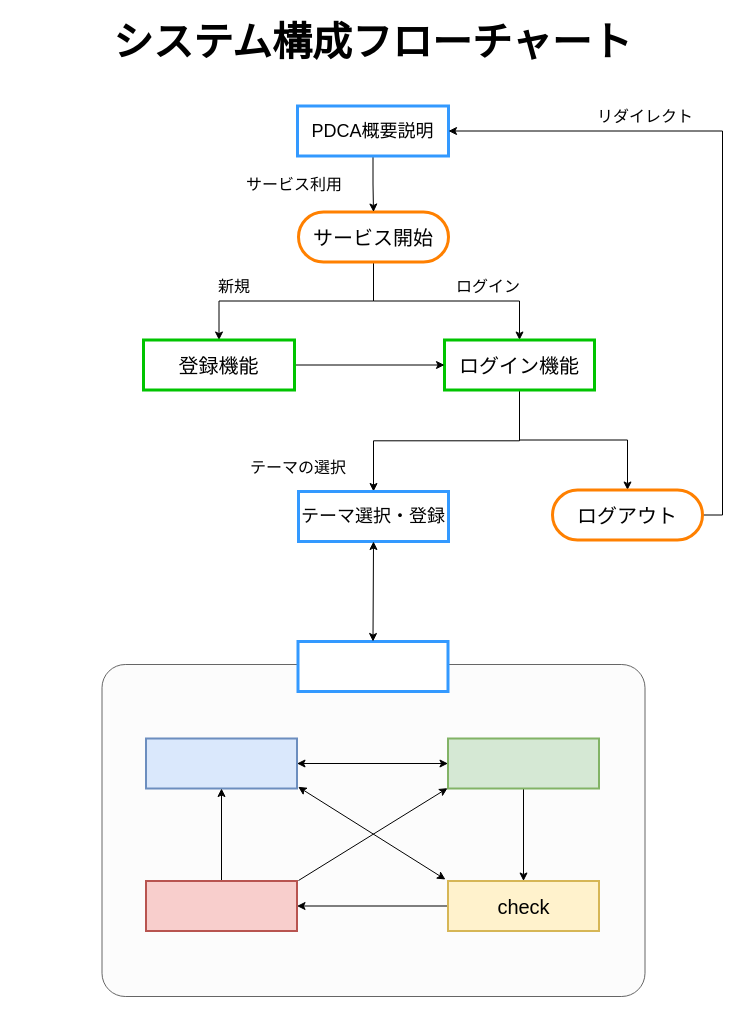
Some shapes in this 748 by 1014 pixel diagram are drawn without their labels. The centre of each missing label's shape, as x and y in pixels:
"action" goes at (221,906).
"do" goes at (523,763).
"plan" goes at (221,763).
"まとめ" goes at (372,666).
